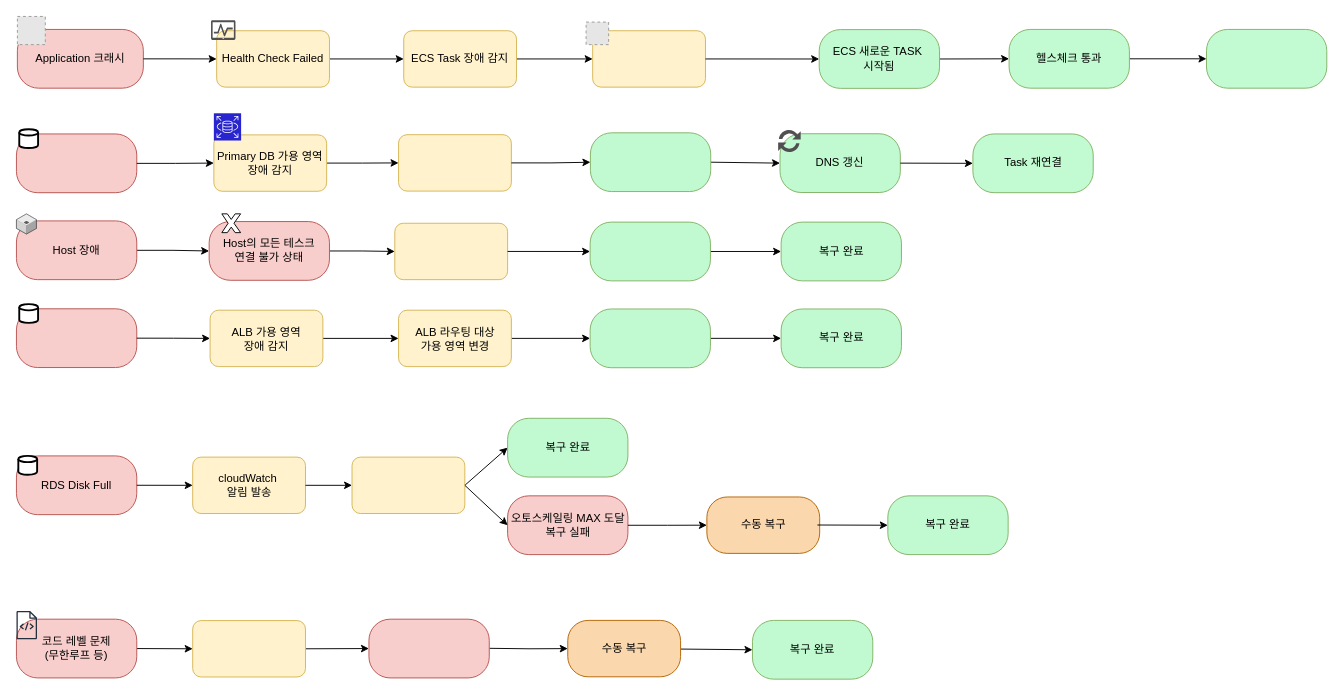
This 1343x696 diagram has some shape labels left out. Grey dashed boxes stand in for pictures. The shapes that lost their labels are listed below. From the top down, each one's box as (x1, y1, x2, y2) in pixels, then its label:
(592, 30, 705, 87): 장애 Task 중지
(1206, 28, 1327, 88): 트래픽 재개
(16, 133, 137, 193): RDS Primary 장애
(398, 134, 511, 191): Automatic Failover
(589, 132, 711, 192): StandBy DB 승격
(394, 222, 508, 280): ECS 태스크 장애 감지
(589, 221, 710, 281): ECS task 시작 (다른 host)
(16, 308, 137, 368): AZ 장애
(589, 308, 710, 368): ECS task 시작 (다른 AZ)
(351, 456, 465, 514): disk 오토스케일링
(192, 620, 306, 677): 모니터링 및 알림 (재시작 횟수, CPU, Query 실패율)
(368, 618, 489, 678): 장애
